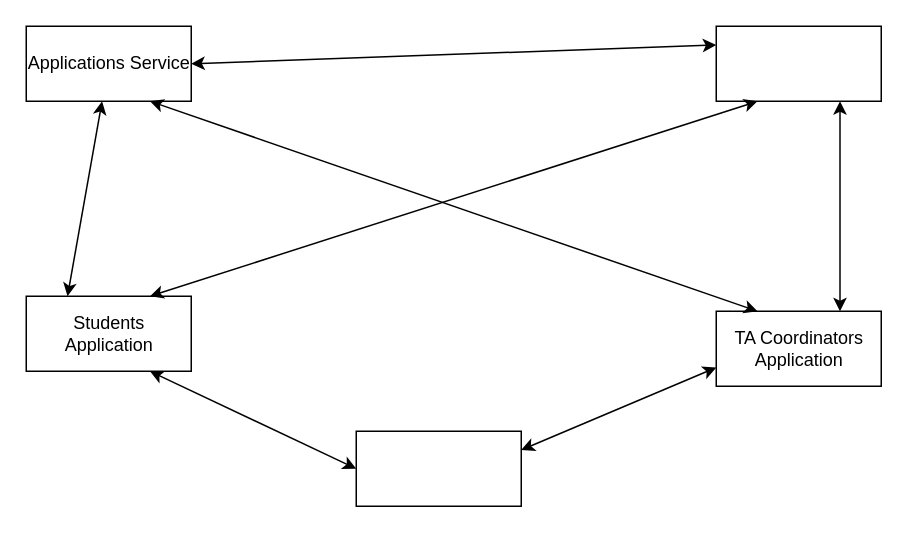
Some shapes in this 908 by 533 pixel diagram are drawn without their labels. The centre of each missing label's shape, as x and y in pixels:
"TA Coordinators Service" belongs at point 798,63.
"Users Service" belongs at point 438,468.
